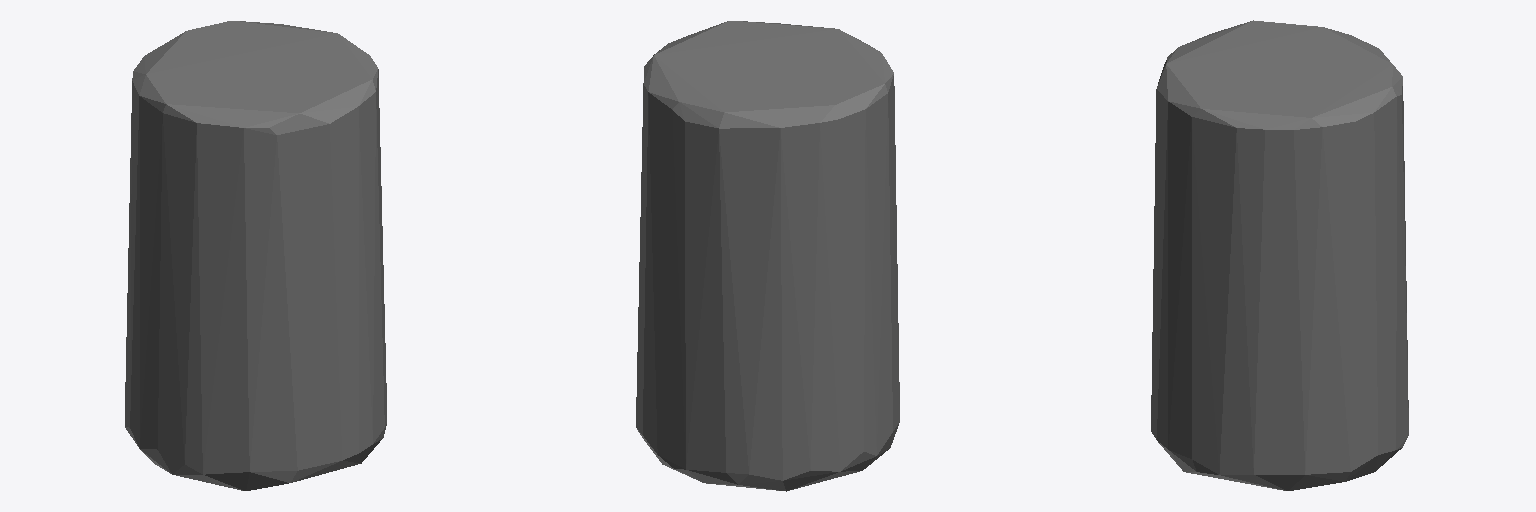
URDF robot description (jar_008):
<?xml version="1.0" ?>
<robot name="jar_008">
  <material name="color">
    <color rgba=".5 .5 .5 1"/>
  </material>

  <link name="base_link">
    <contact>
      <lateral_friction value="1.0"/>
      <rolling_friction value="0.001"/>
      <spinning_friction value="0.001"/>
      <inertia_scaling value="1.0"/>
    </contact>
    <inertial>
      <origin rpy="0 0 0" xyz="2.76906e-05 -2.27505e-05 -0.0306571"/>
       <mass value="0.1"/>
       <inertia ixx="1" ixy="0" ixz="0" iyy="1" iyz="0" izz="1"/>
    </inertial>

    <visual>
      <origin rpy="0 0 0" xyz="0 0 0"/>
      <geometry>
        <mesh filename="jar_008_vhacd_0_of_1.obj" scale="1 1 1"/>
      </geometry>
      <material name="color"/>
    </visual>

    <collision>
      <origin rpy="0 0 0" xyz="0 0 0"/>
      <geometry>
        <mesh filename="jar_008_vhacd_0_of_1.obj" scale="1 1 1"/>
      </geometry>
    </collision>

  </link>
</robot>

--- What the picture shows (computed from the rendered views, not written in the file) ---
Views: 3 orthographic renders of the robot side by side, from view 1: azimuth 30°, elevation 25°; view 2: azimuth 150°, elevation 25°; view 3: azimuth 270°, elevation 25°.
Model jar_008 with 1 links and 0 joints (none), rooted at base_link, posed every joint at zero.
Visible links, largest first — view 1: base_link; view 2: base_link; view 3: base_link.
Link boxes in pixels (x1,y1,x2,y2): base_link: (125,21,386,490); base_link: (636,21,899,491); base_link: (1151,20,1408,490).
Size in the robot's own frame: 0.1162 by 0.1163 by 0.1858 metres.
1 mesh visuals loaded from 1 distinct referenced files (1 OBJ).